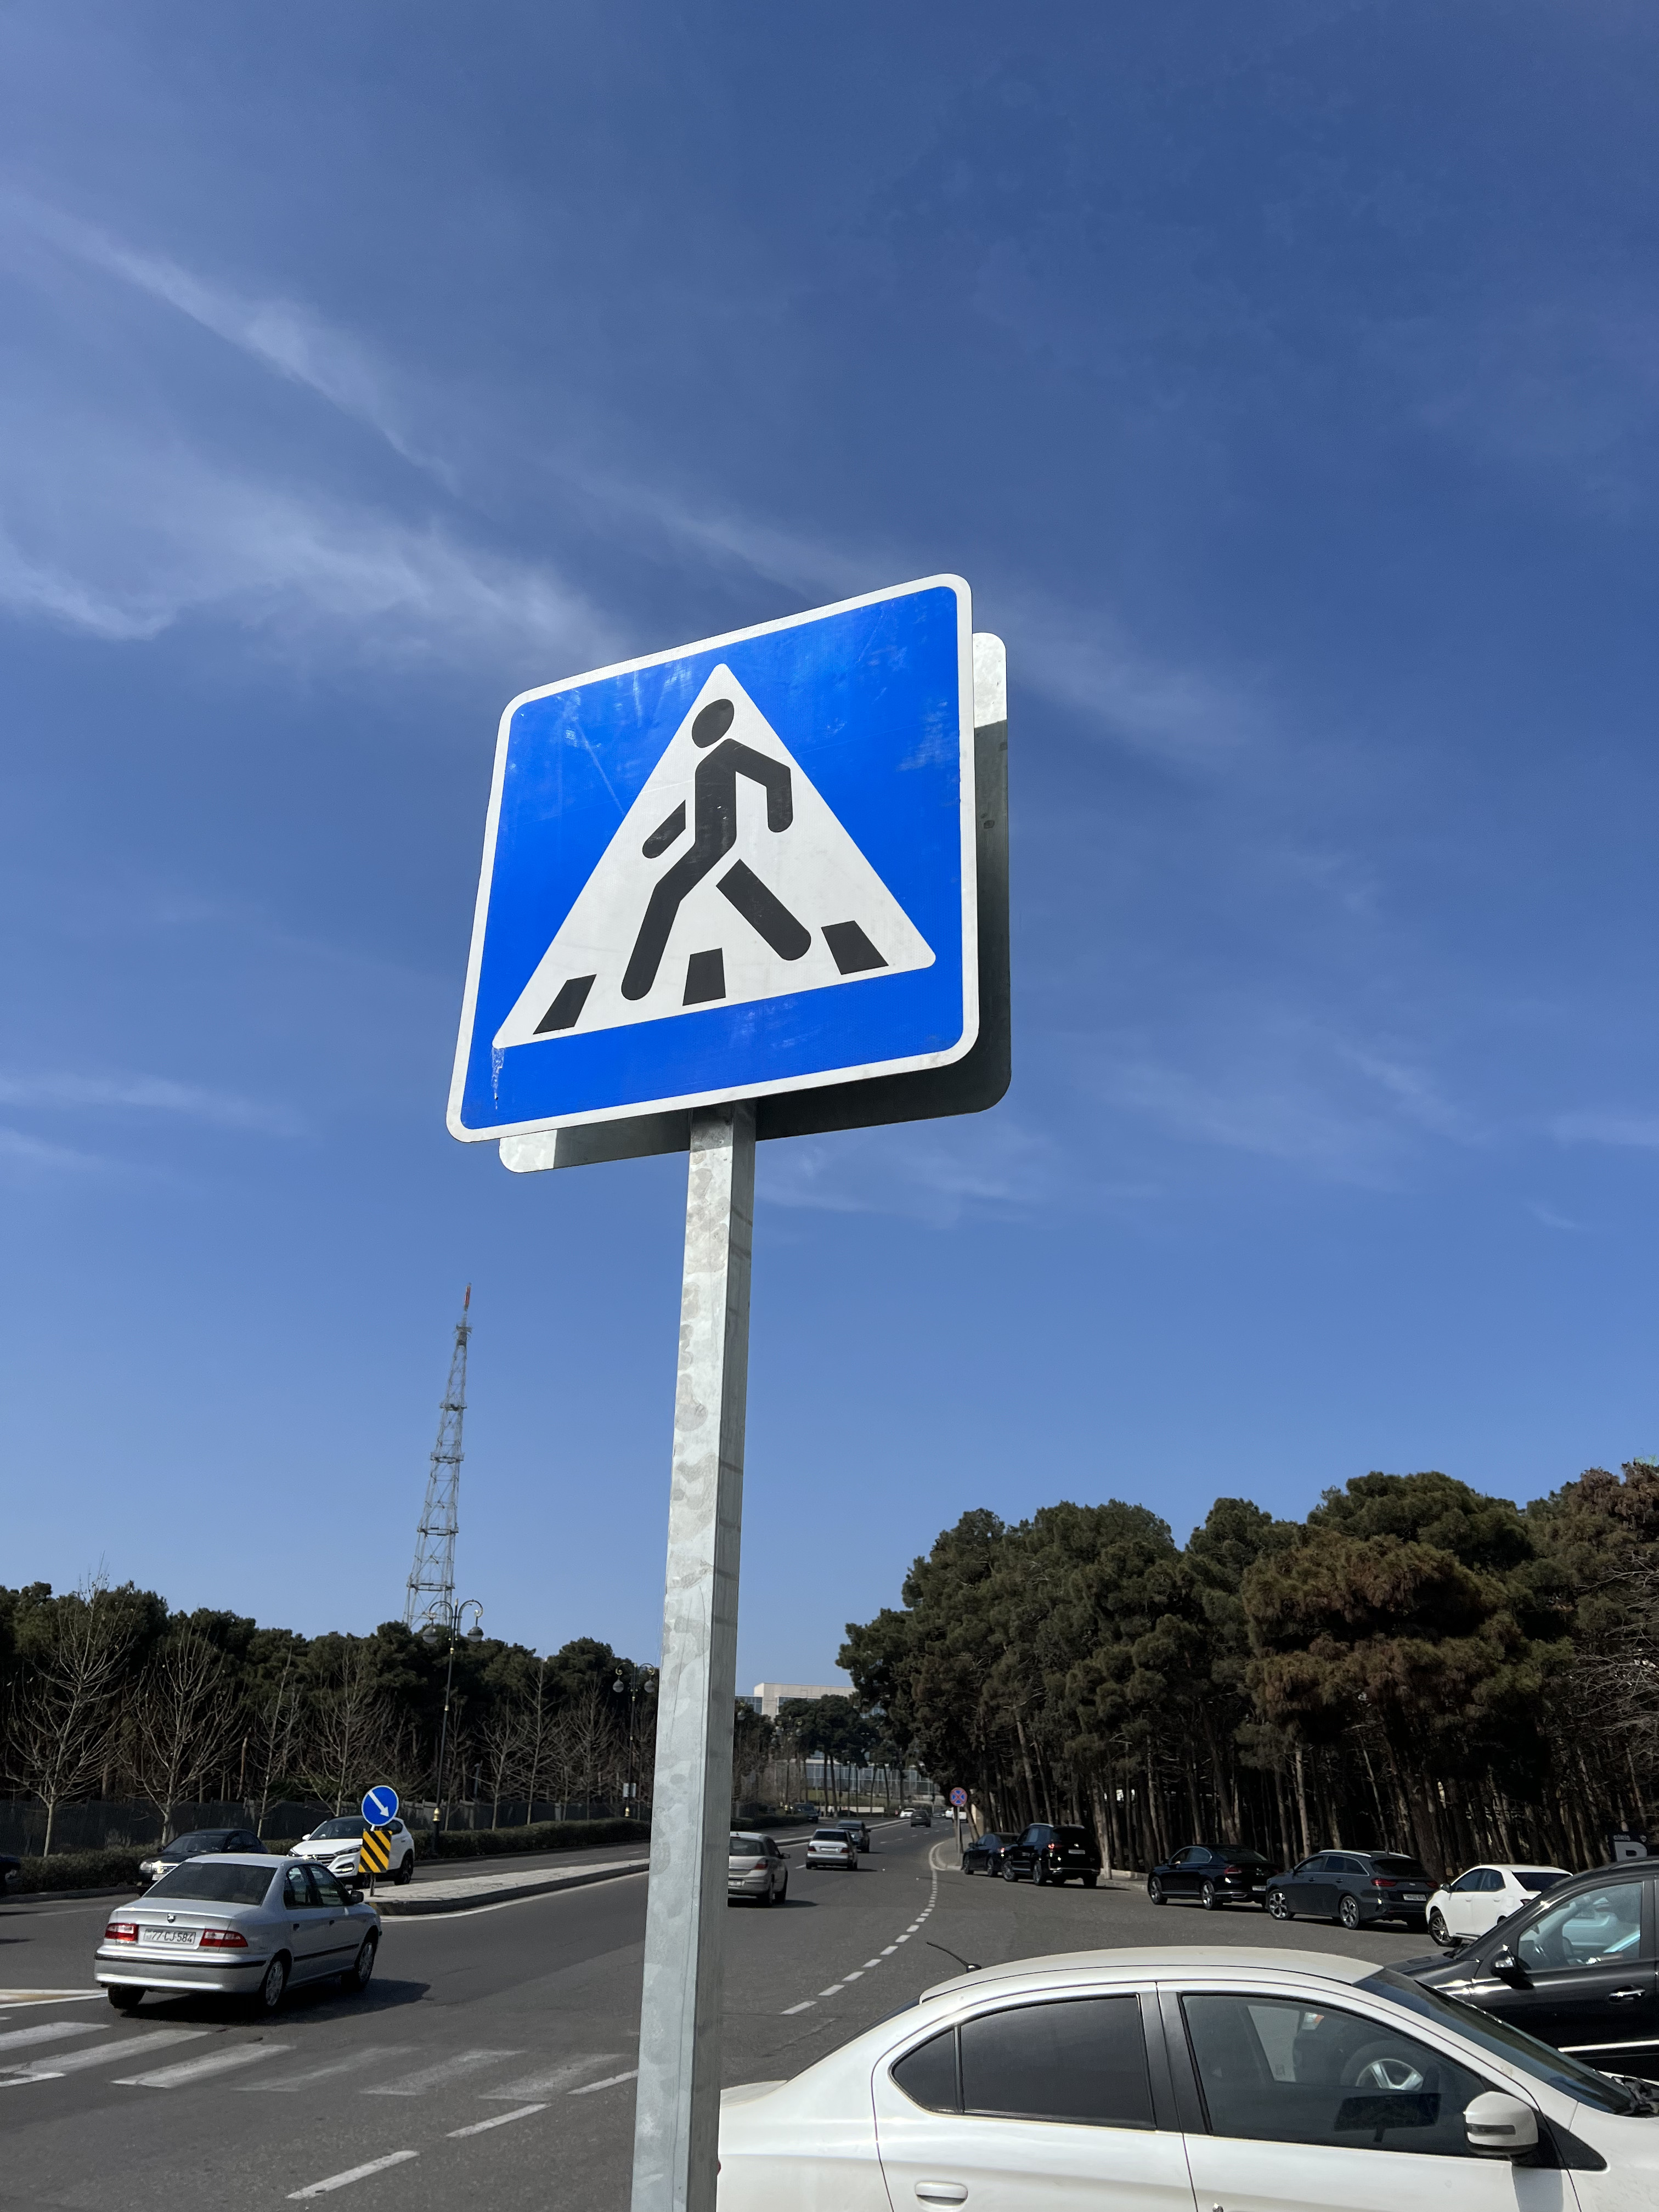Pedestrian Crossing: (450, 571, 974, 1137)
